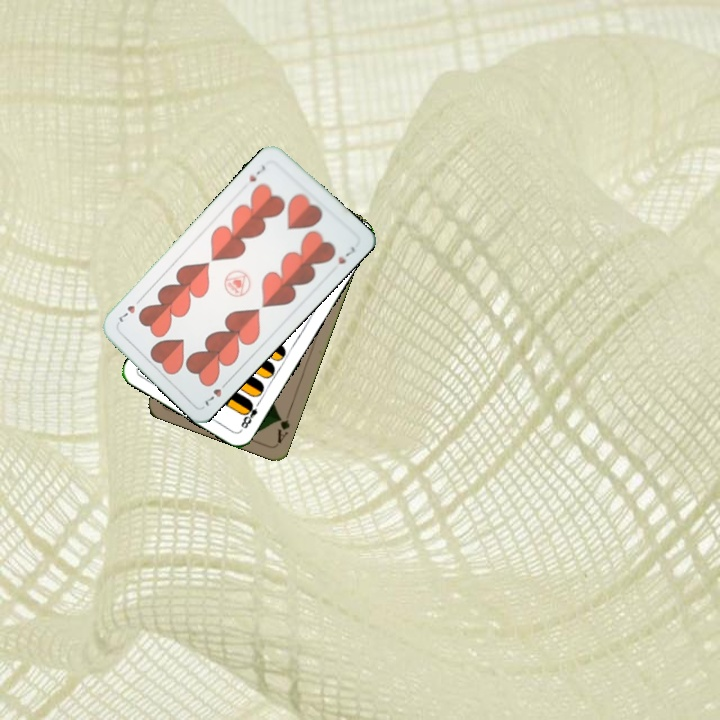E8: (237, 396, 263, 431)
GA: (273, 406, 293, 446)
H7: (198, 377, 231, 409), (245, 161, 268, 185)
